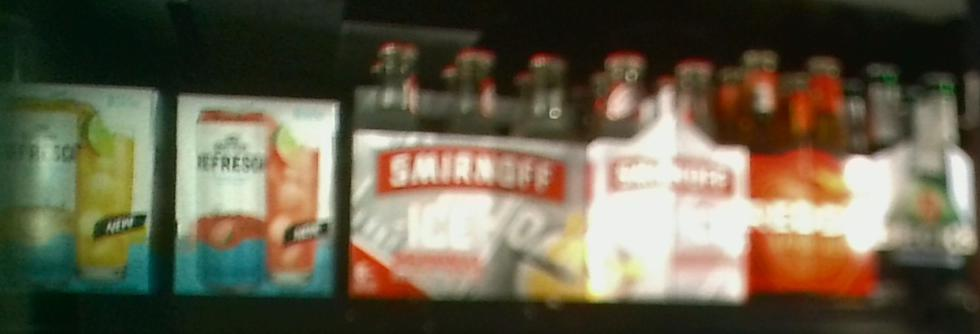bottle: (349, 40, 586, 298), (586, 49, 748, 311), (1, 84, 170, 295), (171, 90, 341, 291), (747, 49, 875, 300)
